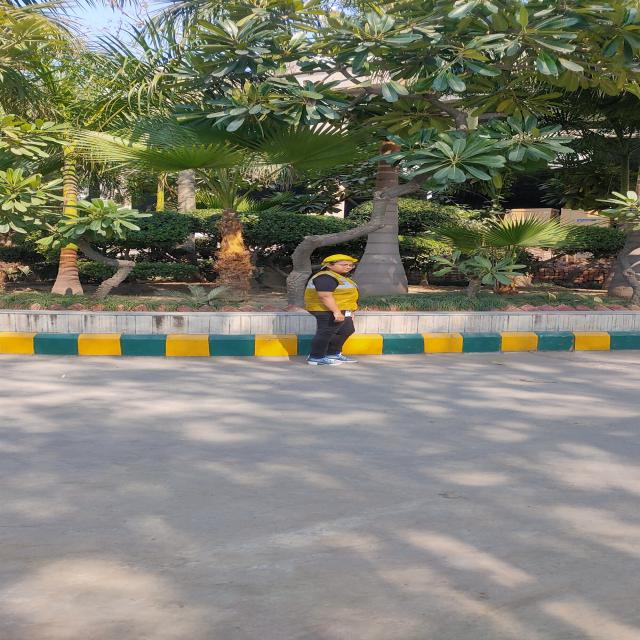safe: (304, 254, 359, 366)
